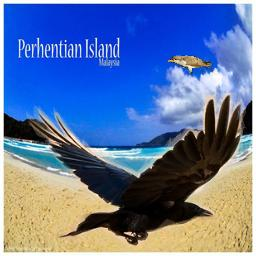Crow: (26, 93, 246, 247)
Cuckoo: (167, 55, 213, 77)
